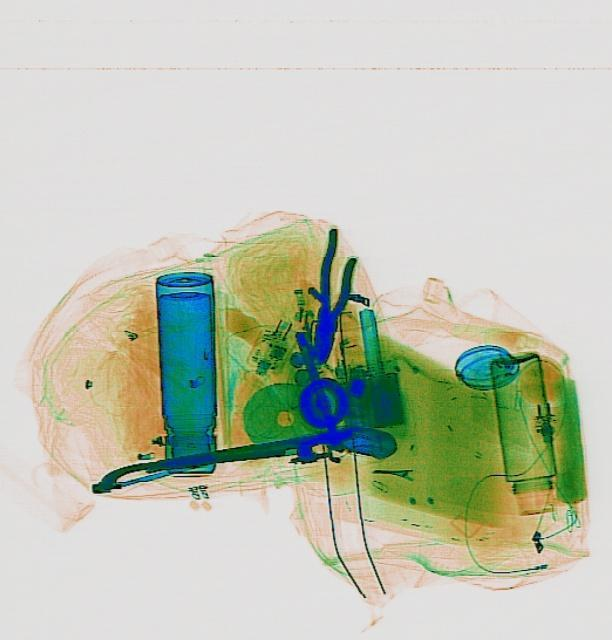Pliers: (300, 225, 362, 363)
